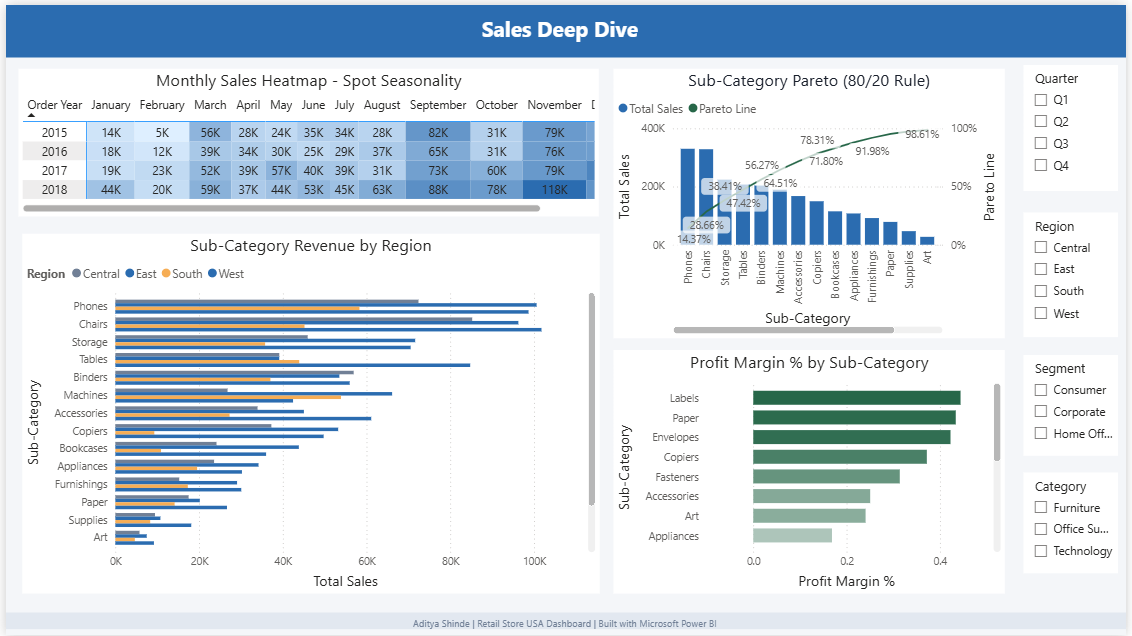

The dashboard page shown, as its layout file describes it:
{"tool":"powerbi","page":{"name":"Sales Deep Dive","canvas":[1280,720],"ordinal":1},"visuals":[{"type":"shape","box":[0,0,1280,60.3],"z":0},{"type":"textbox","box":[538.1,6,202.7,48.3],"z":1000},{"type":"shape","box":[0,695,1280,25],"z":2000},{"type":"textbox","box":[457.2,691,365.6,29],"z":3000},{"type":"pivotTable","title":"Monthly Sales Heatmap - Spot Seasonality","fields":{"Rows":["Orders.Order Year"],"Values":["Measure.Total Sales"],"Columns":["Orders.Order Month Name"]},"box":[14.5,72.4,663.5,168.9],"z":4000},{"type":"clusteredBarChart","title":"Sub-Category Revenue by Region","fields":{"Category":["Orders.Sub-Category"],"Y":["Measure.Total Sales"],"Series":["Orders.Region"]},"box":[18.1,261.8,659.9,411.4],"z":5000},{"type":"lineClusteredColumnComboChart","title":"Sub-Category Pareto (80/20 Rule)","fields":{"Category":["Orders.Sub-Category"],"Y":["Measure.Total Sales"],"Y2":["Measure.Pareto Line"]},"box":[694.9,72.4,447.6,307.6],"z":6000},{"type":"barChart","fields":{"Category":["Orders.Sub-Category"],"Y":["Measure.Profit Margin %"]},"box":[694.9,394.5,447.6,278.7],"z":7000},{"type":"slicer","fields":{"Values":["DateTable.Quarter"]},"box":[1163,68,108,144],"z":8000},{"type":"slicer","fields":{"Values":["Orders.Region"]},"box":[1163,237,108,142],"z":9000},{"type":"slicer","fields":{"Values":["Orders.Segment"]},"box":[1163,400,108,115],"z":10000},{"type":"slicer","fields":{"Values":["Orders.Category"]},"box":[1163,534,108,115],"z":11000}]}

Visuals, with their boxes in screenshot pixels (x1, y1, x2, y2), scaled from the page's 1280x720 canvas onto the 1132x636 screenshot:
shape: (x1=0, y1=0, x2=1131, y2=53)
textbox: (x1=476, y1=5, x2=655, y2=48)
shape: (x1=0, y1=614, x2=1131, y2=635)
textbox: (x1=404, y1=610, x2=728, y2=635)
"Monthly Sales Heatmap - Spot Seasonality" pivotTable: (x1=13, y1=64, x2=600, y2=213)
"Sub-Category Revenue by Region" clusteredBarChart: (x1=16, y1=231, x2=600, y2=595)
"Sub-Category Pareto (80/20 Rule)" lineClusteredColumnComboChart: (x1=615, y1=64, x2=1010, y2=336)
barChart - Orders.Sub-Category x Measure.Profit Margin %: (x1=615, y1=348, x2=1010, y2=595)
slicer - DateTable.Quarter: (x1=1029, y1=60, x2=1124, y2=187)
slicer - Orders.Region: (x1=1029, y1=209, x2=1124, y2=335)
slicer - Orders.Segment: (x1=1029, y1=353, x2=1124, y2=455)
slicer - Orders.Category: (x1=1029, y1=472, x2=1124, y2=573)
